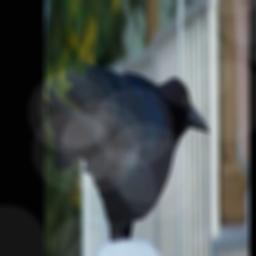Crow: (46, 61, 210, 238)
